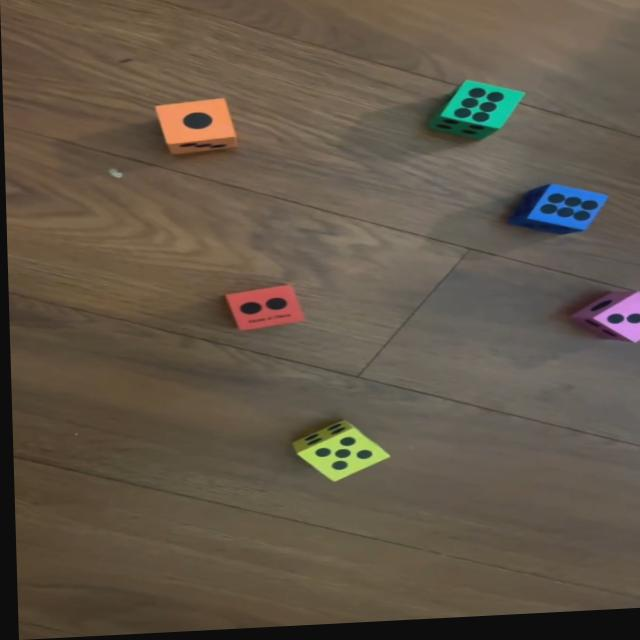blue_block: (514, 188, 607, 242)
red_block: (223, 286, 300, 335)
